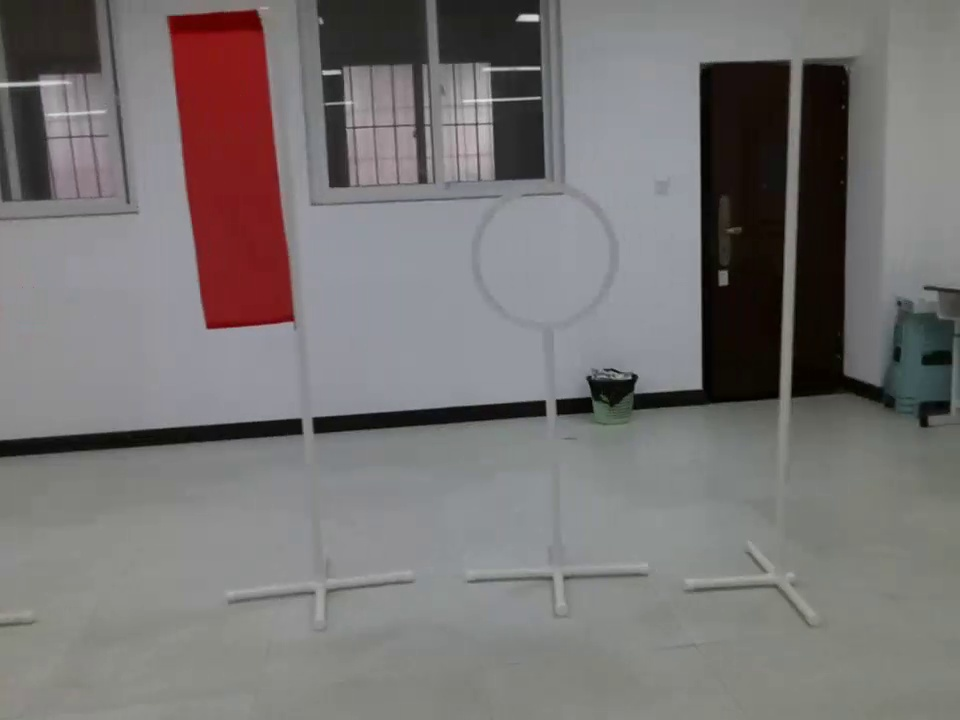gan: (768, 39, 814, 566)
qi: (162, 5, 309, 333)
quan: (477, 146, 620, 335)
